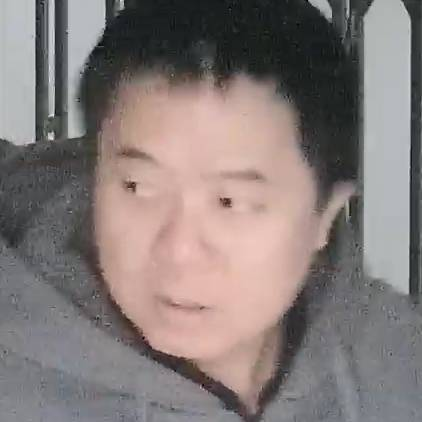caibo: (86, 53, 337, 355)
